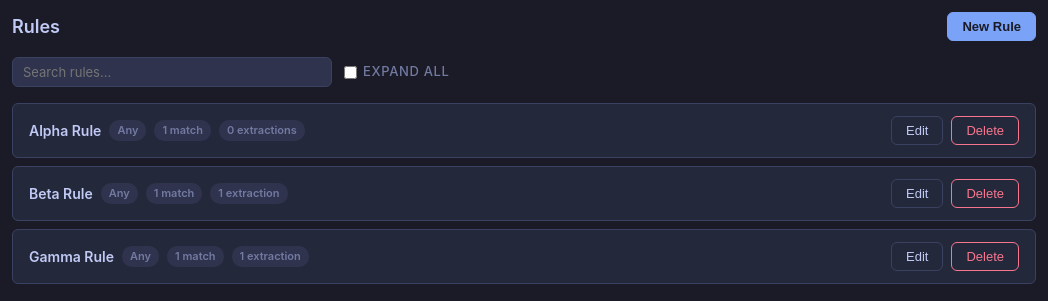
RuleList search and expand-all › filters rules by name
The image size is (1048, 301).
Expected: the text "Alpha Rule" is shown, left=29, top=120, right=101, bottom=141
Type "alpha" into the search field with placeholder "Search rules...".
click(172, 72); type("alpha")  # box left=12, top=57, right=332, bottom=87
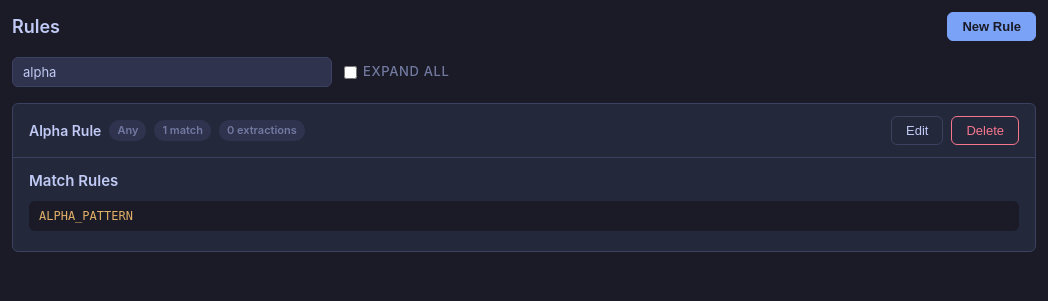
Expected: the text "Alpha Rule" is shown, left=29, top=120, right=101, bottom=141
Now the button "Beta Rule" is gone
Now the button "Gamma Rule" is gone
